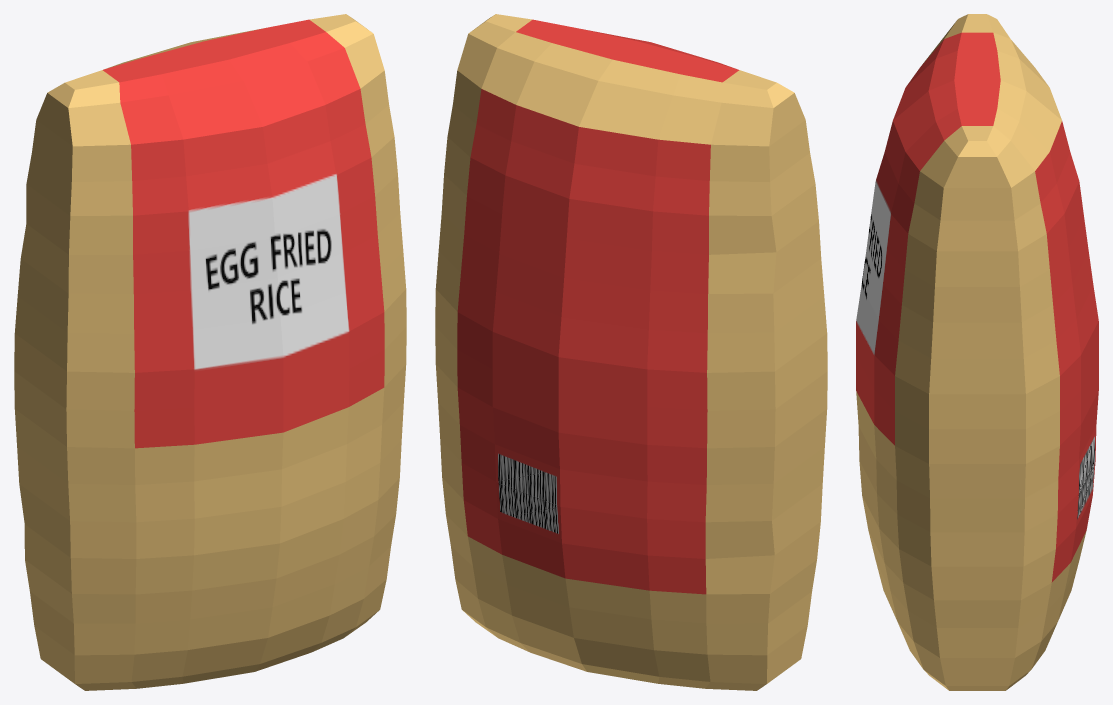
File: egg_fried_rice.glb
3 views of the same model, side by side, from view 1: azimuth 30°, elevation 25°; view 2: azimuth 150°, elevation 25°; view 3: azimuth 270°, elevation 25° (orthographic). The views are drawn at different scales.
Parts seen in each view (by area): view 1: Cube; view 2: Cube; view 3: Cube.
Boxes of the visible parts, x1=… form: Cube: x1=14, y1=14, x2=406, y2=690; Cube: x1=435, y1=14, x2=827, y2=690; Cube: x1=856, y1=14, x2=1098, y2=690.
Size of the model in its own units: 0.15 by 0.25 by 0.1.
1 material, 1 textured.
